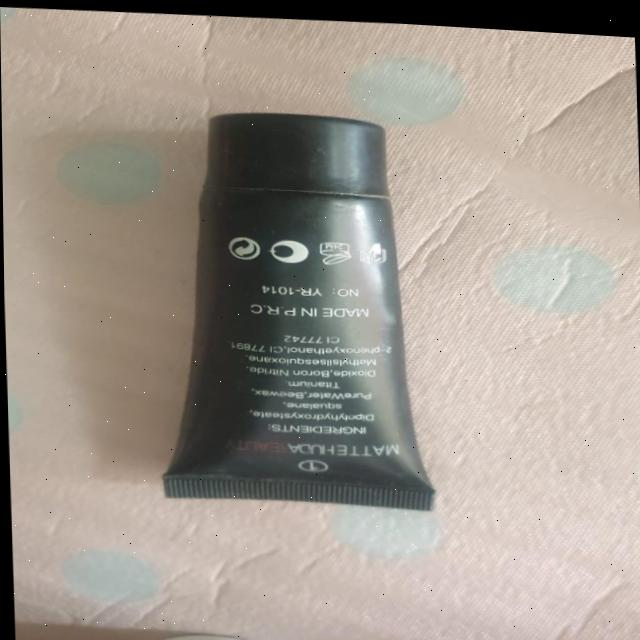primer: (141, 88, 452, 529)
